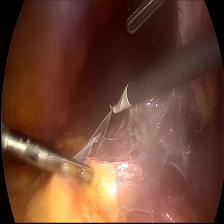Grasper: (1, 123, 97, 195), (122, 1, 170, 38)
Hook: (105, 83, 136, 130)
